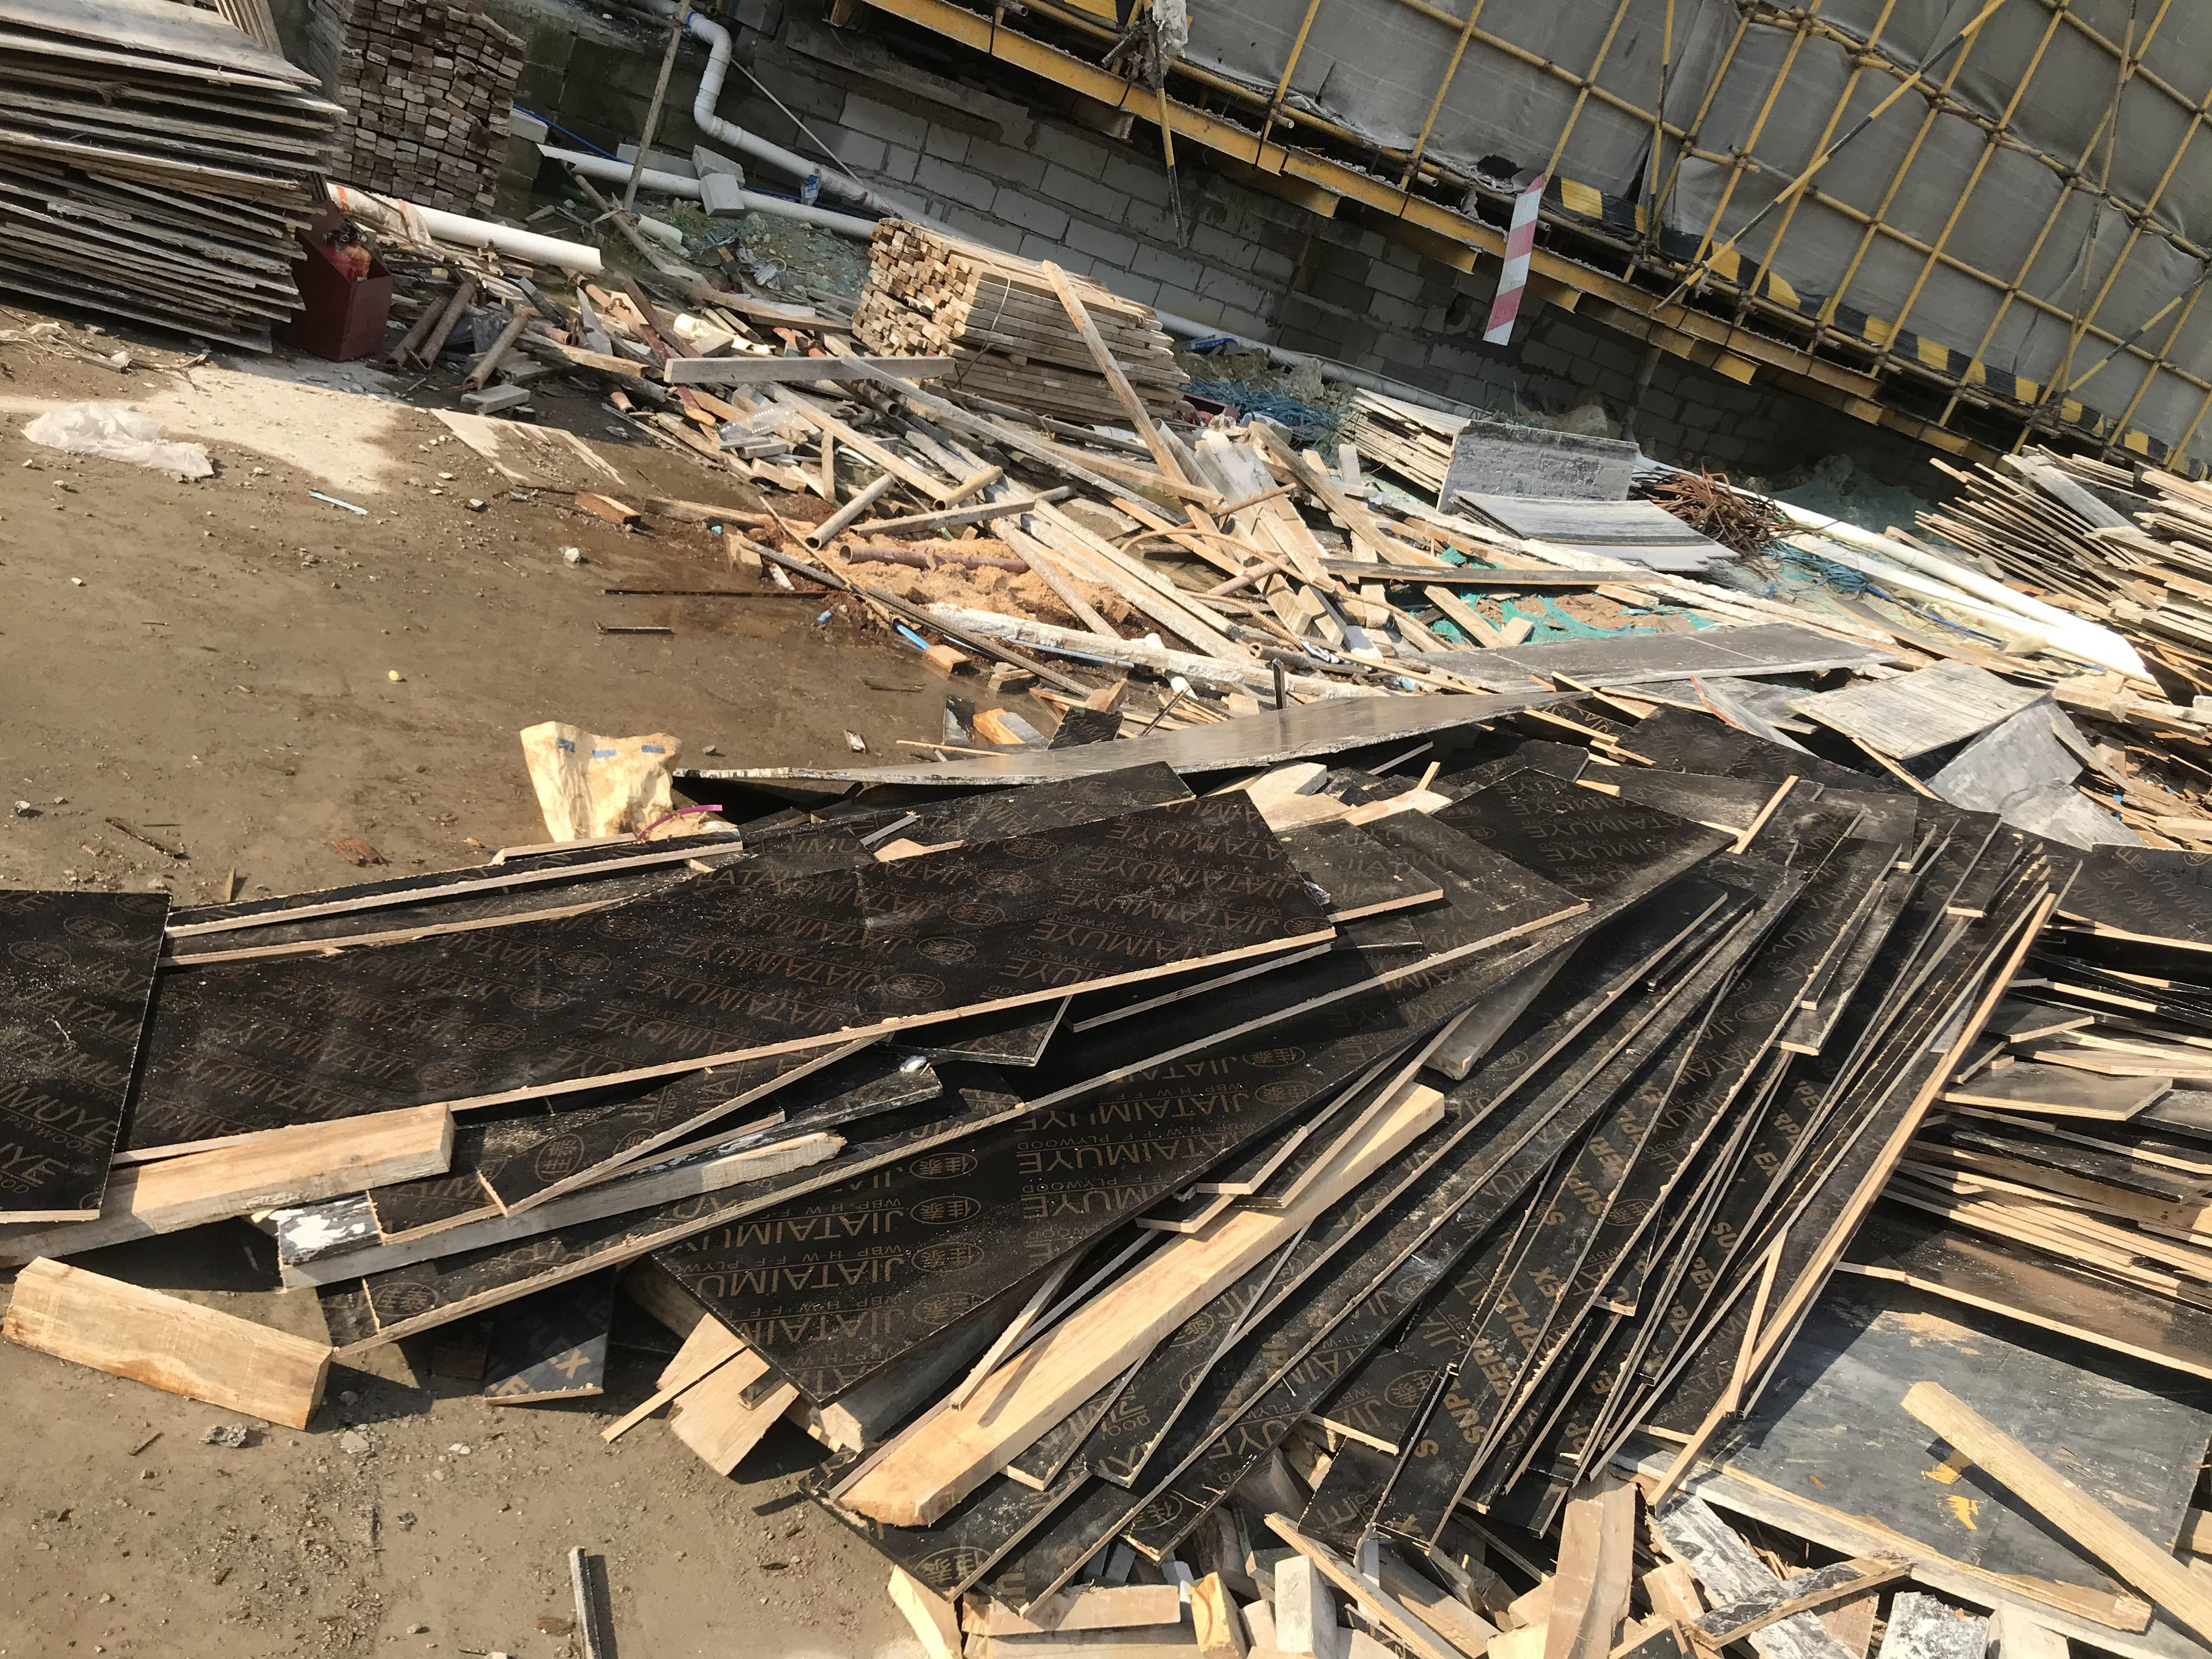board: (324, 697, 2040, 1595), (0, 0, 350, 352), (1918, 450, 2121, 601), (2120, 476, 2212, 699)
wood: (852, 216, 1184, 422), (308, 0, 526, 220)
